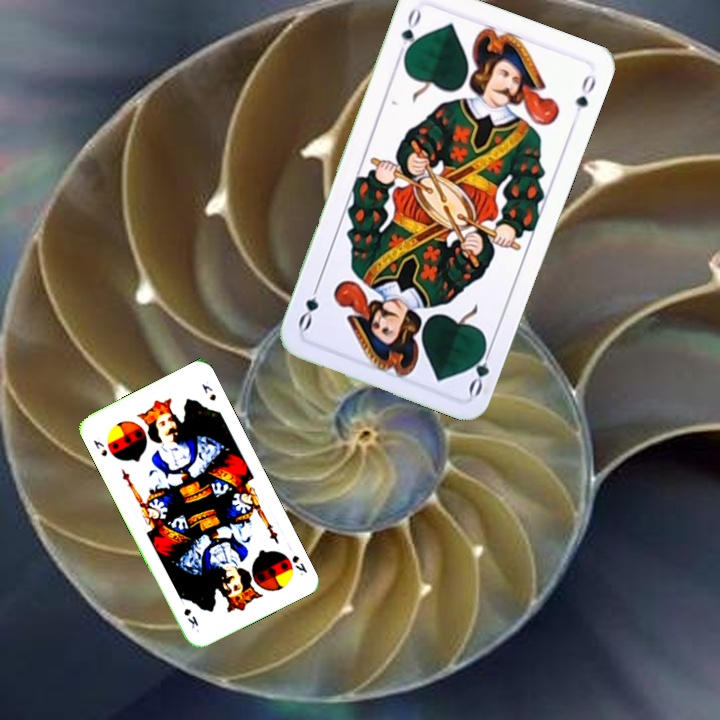GO: (464, 339, 496, 398), (393, 4, 424, 62)
SK: (288, 551, 310, 578), (89, 436, 110, 459)
